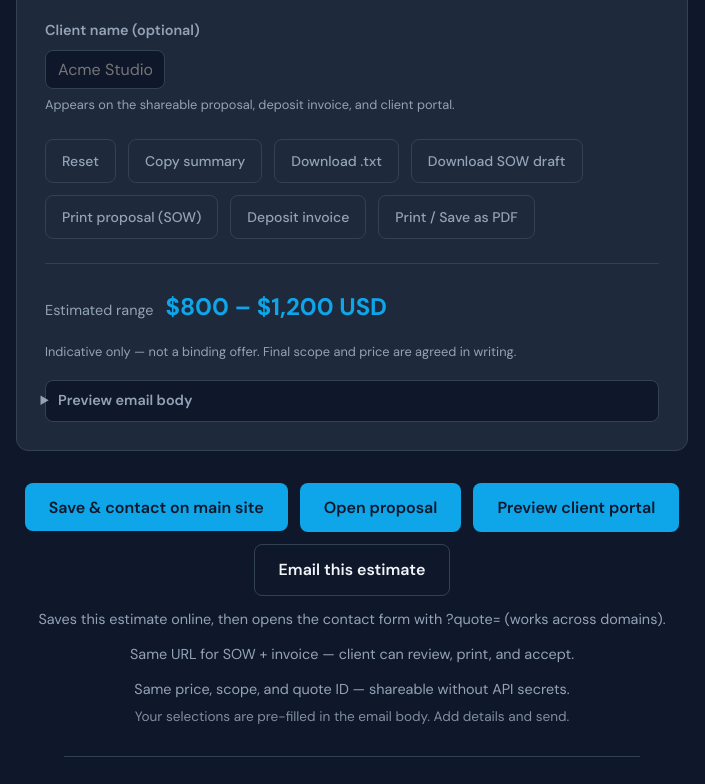
Calculator › shows persisted quote reference in preview
(page scrolled)
Click the heading "Preview email body". click: (125,400)
box: x1=58 y1=392 x2=192 y2=410
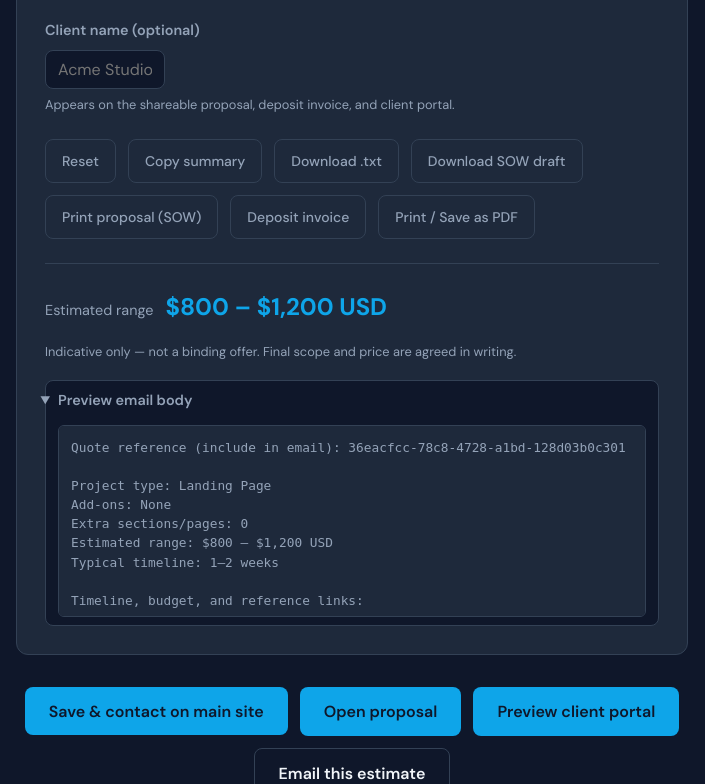
Expected: the text with class "calc-preview-body" shows "Quote reference", x1=71 y1=440 x2=626 y2=608
